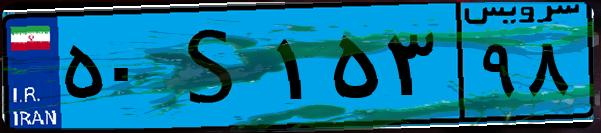0: (110, 28, 158, 98)
1: (270, 28, 330, 110)
3: (385, 28, 445, 110)
5: (330, 28, 385, 110), (57, 26, 110, 100)
8: (525, 38, 570, 115)
9: (475, 38, 525, 113)
S: (158, 12, 270, 120)
